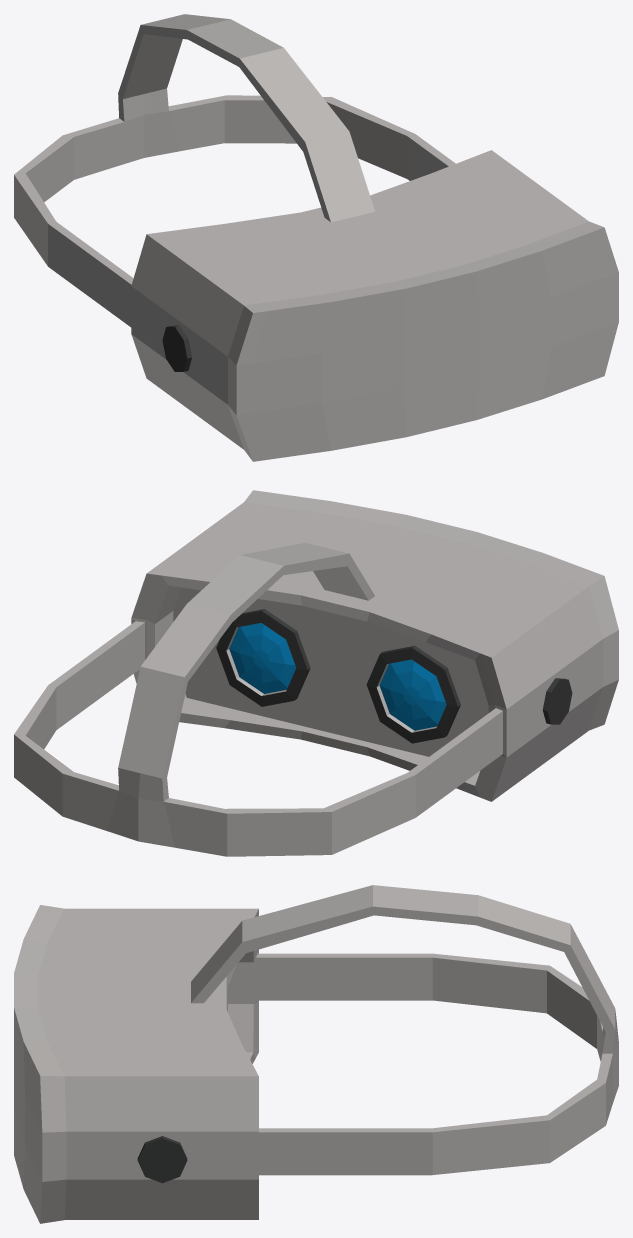
File: VRHeadset.gltf
3 views of the same model, one above another, from view 1: azimuth 30°, elevation 25°; view 2: azimuth 150°, elevation 25°; view 3: azimuth 270°, elevation 25° (orthographic).
Parts seen in each view (by area): view 1: Nodes; view 2: Nodes; view 3: Nodes.
Part boxes in pixels (<box>): Nodes: <box>14,14,618,461</box>; Nodes: <box>14,490,618,856</box>; Nodes: <box>14,885,618,1223</box>.
Size of the model in its own units: 16.35 by 9.88 by 22.33.
Materials: 1 (1 with a texture image).
